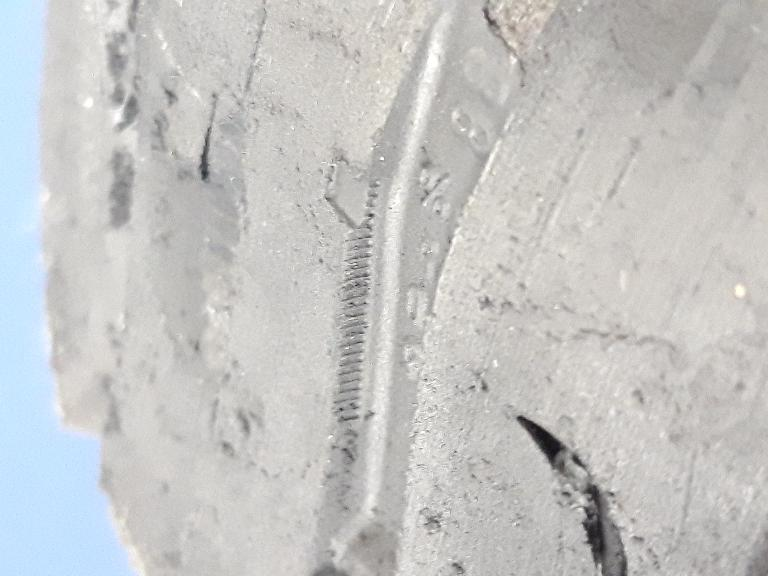temoin:25: (308, 142, 395, 293)
